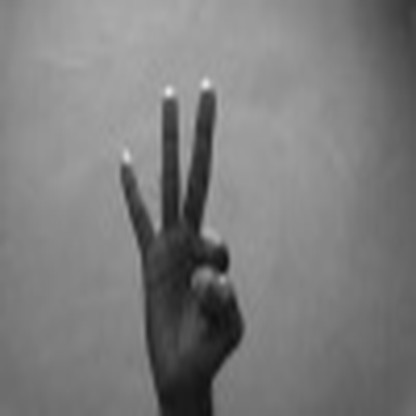f: (112, 78, 248, 369)
